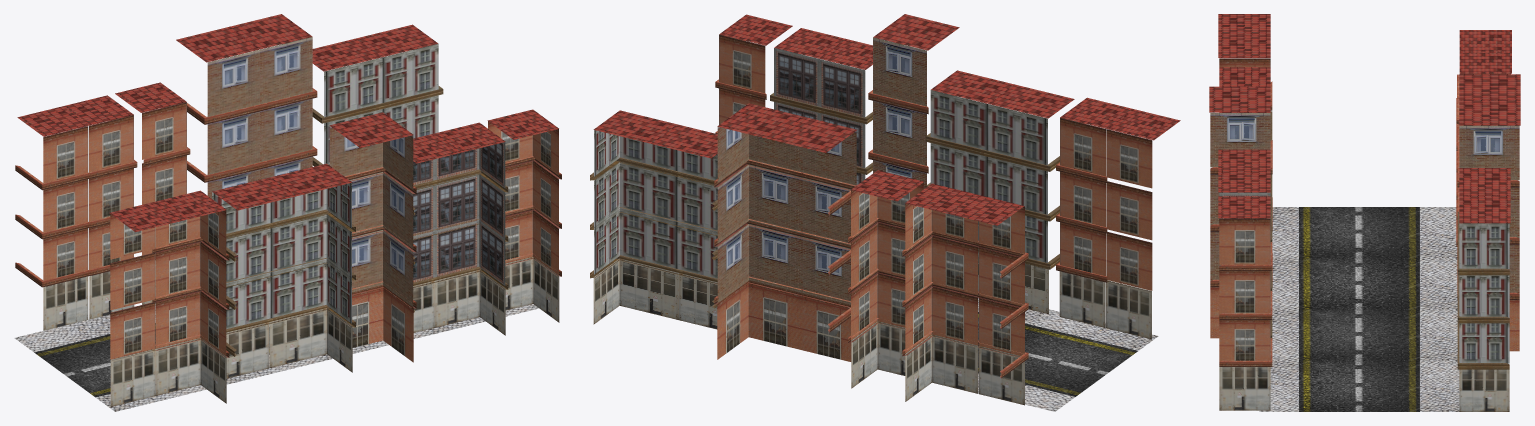
The model's file is tile predios.fbx.
3 renders of one model, left to right at view 1: azimuth 30°, elevation 25°; view 2: azimuth 150°, elevation 25°; view 3: azimuth 270°, elevation 25°, orthographic. The views are drawn at different scales.
Parts seen in each view (by area): view 1: pCube29; view 2: pCube29; view 3: pCube29.
Boxes of the visible parts, x1,y1,x2,y2 form: pCube29: (14, 14, 561, 411); pCube29: (590, 14, 1180, 411); pCube29: (1209, 14, 1520, 411).
Bounding box in the file's own units: 47.08 × 24.08 × 29.97.
